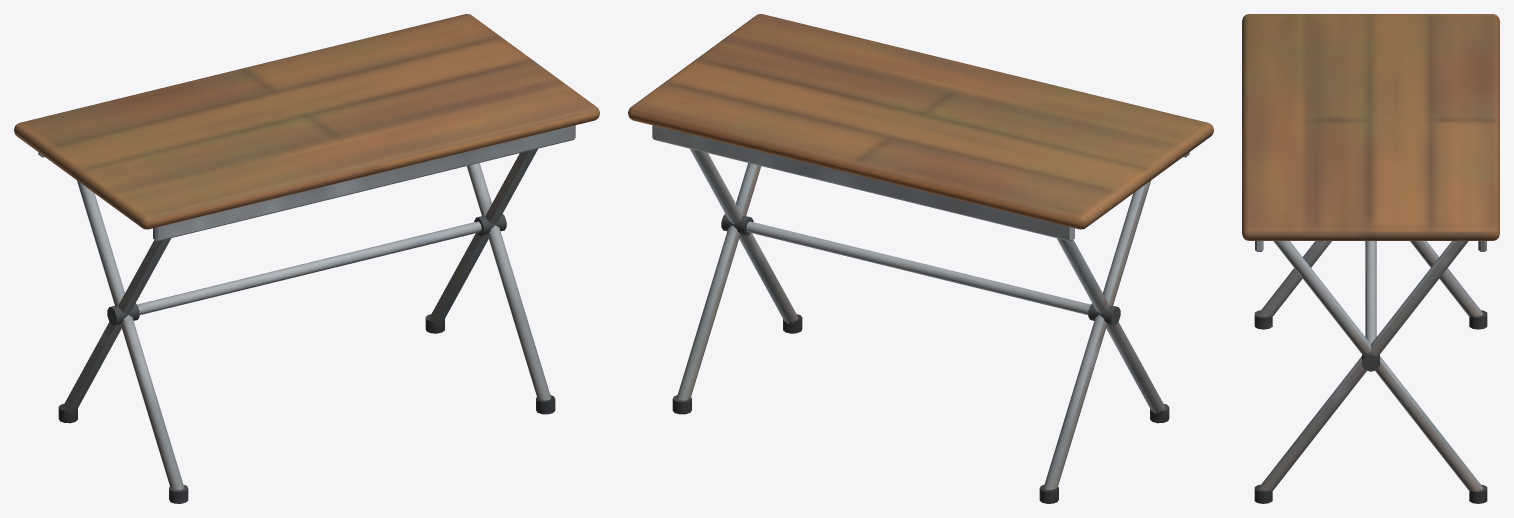
The model's file is table_folding.glb.
3 views of the same model, side by side, from view 1: azimuth 30°, elevation 25°; view 2: azimuth 150°, elevation 25°; view 3: azimuth 270°, elevation 25° (orthographic). The views are drawn at different scales.
Visible parts, largest first — view 1: table_folding; view 2: table_folding; view 3: table_folding.
Boxes of the visible parts, left/top/right/bottom form: table_folding: left=14, top=14, right=599, bottom=503; table_folding: left=628, top=14, right=1213, bottom=503; table_folding: left=1242, top=14, right=1499, bottom=503.
Bounding box in the file's own units: 1.2 × 0.75 × 0.6.
Materials: 3 (3 with a texture image).
